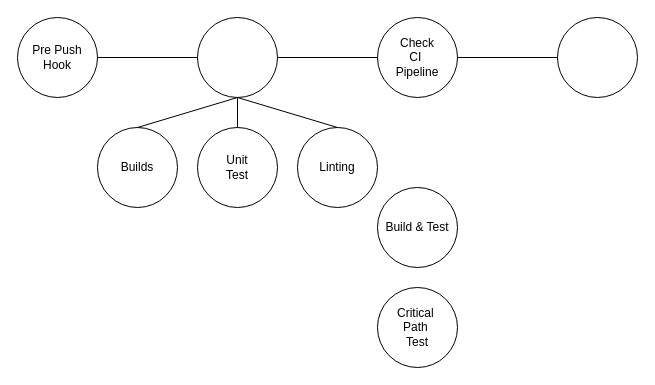
The diagram is 655 pixels wide and 385 high, and some of its shapes have lost their labels. Each missing label, with the box of its shape:
Push: (556, 16, 638, 98)
Verify commits: (196, 16, 278, 98)
